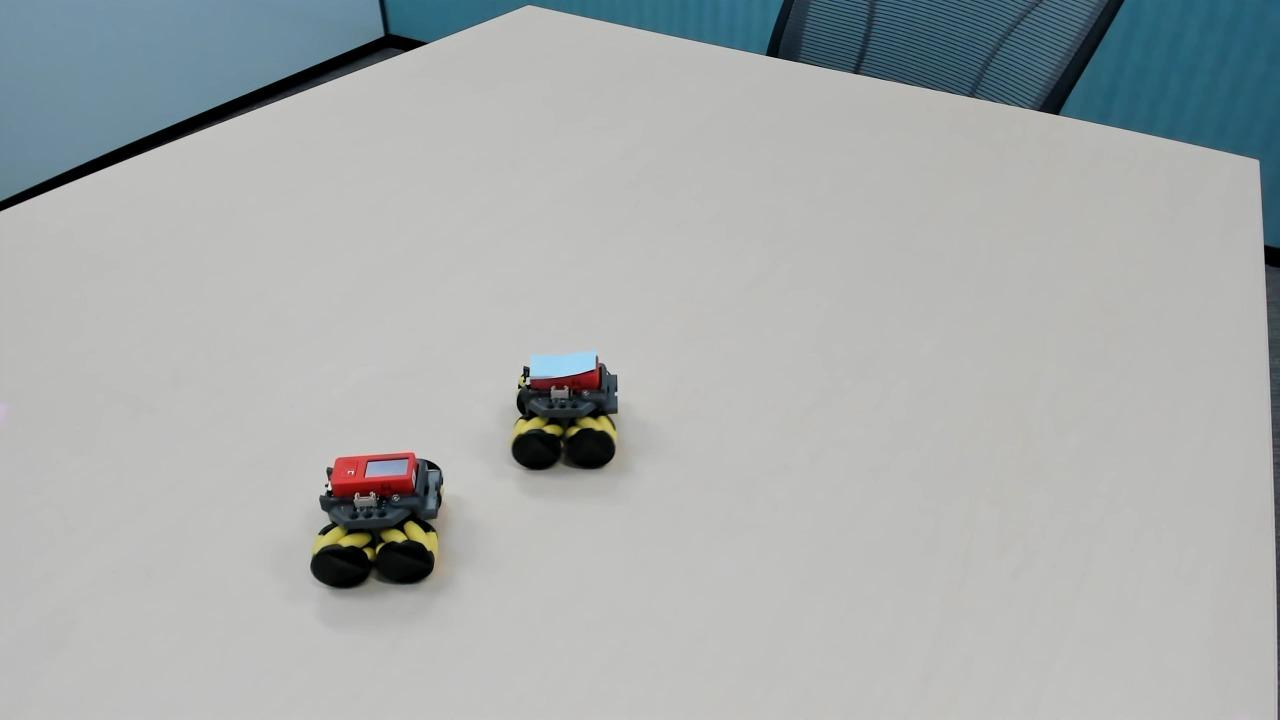B-Robot: (501, 343, 644, 486)
R-Robot: (294, 430, 456, 608)
